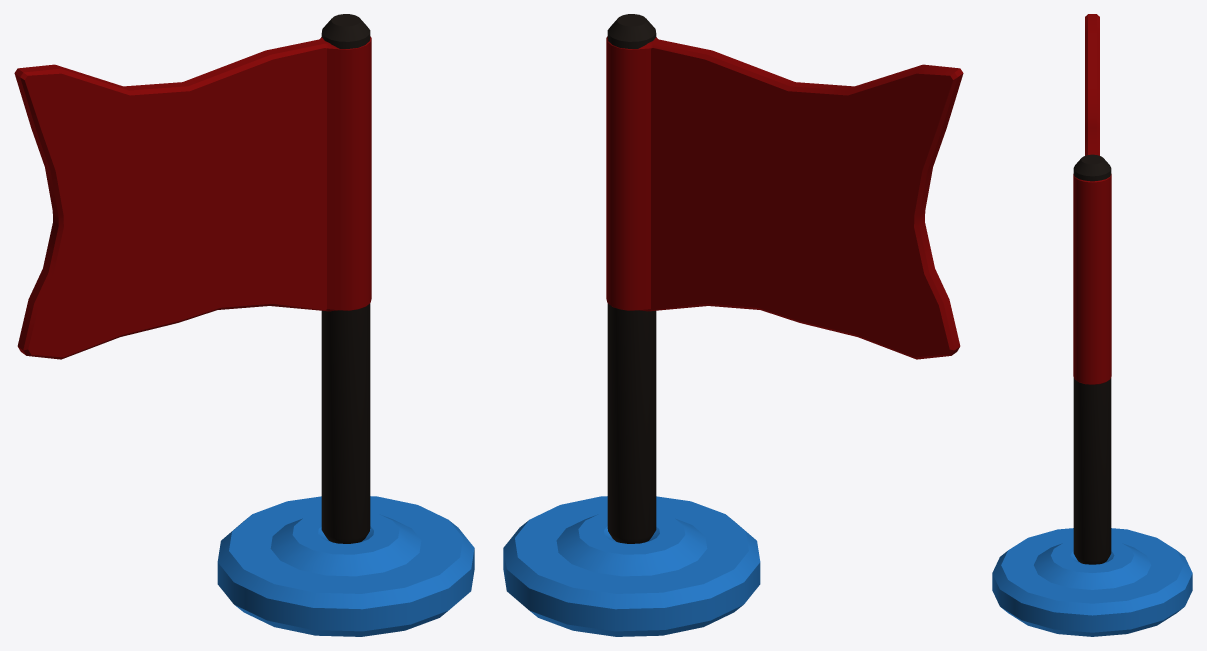
The model's file is Flag.FBX.
3 renders of one model, left to right at view 1: azimuth 30°, elevation 25°; view 2: azimuth 150°, elevation 25°; view 3: azimuth 270°, elevation 25°, orthographic. The views are drawn at different scales.
Visible parts, largest first — view 1: Flag; view 2: Flag; view 3: Flag.
Boxes of the visible parts, x1,y1,x2,y2 form: Flag: [14, 14, 474, 636]; Flag: [503, 14, 963, 636]; Flag: [992, 14, 1192, 636].
Bounding box in the file's own units: 804 × 409 × 1039.
